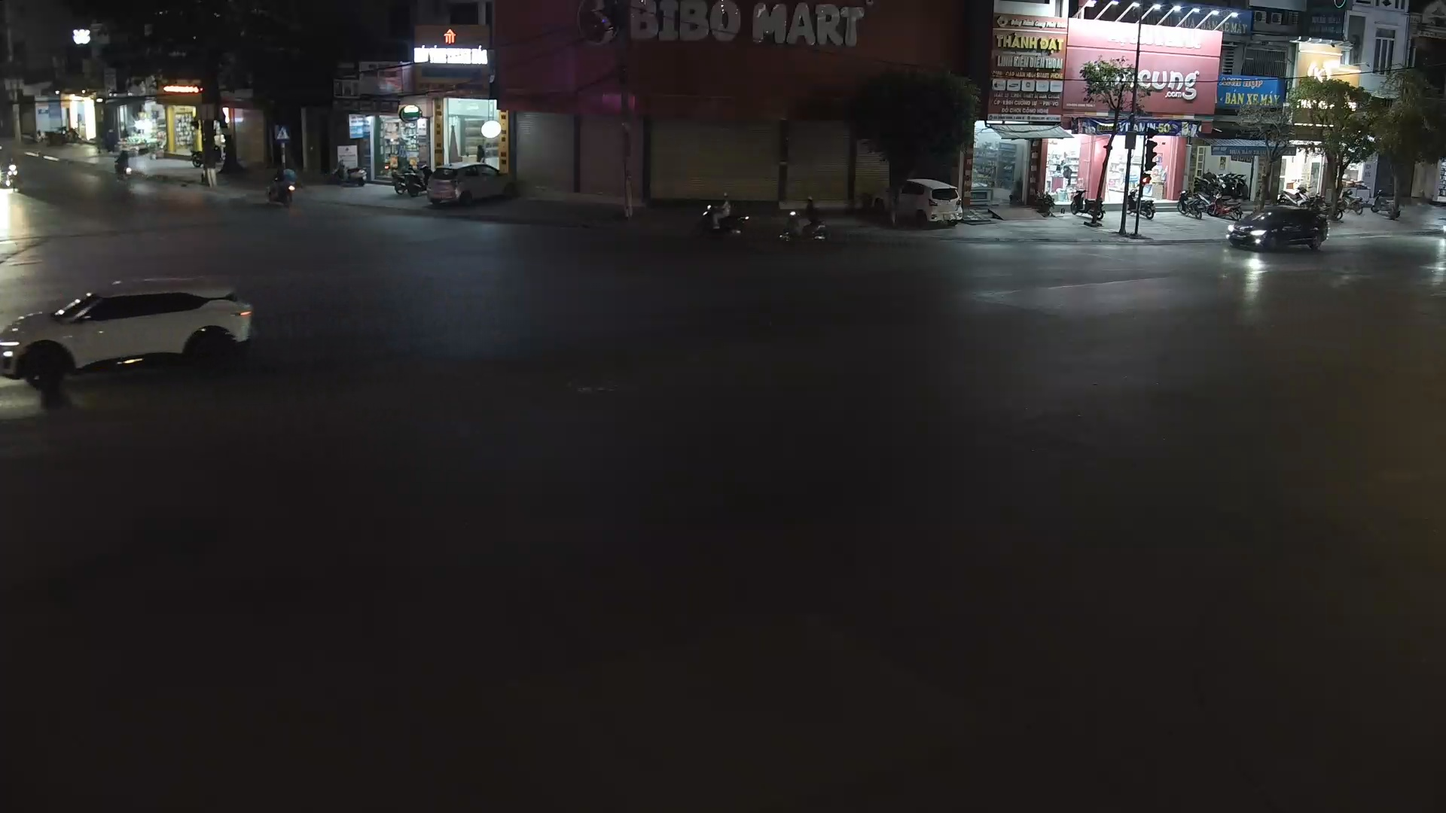car: (0, 276, 256, 397), (1223, 203, 1328, 253)
motorbike: (777, 201, 831, 249)
